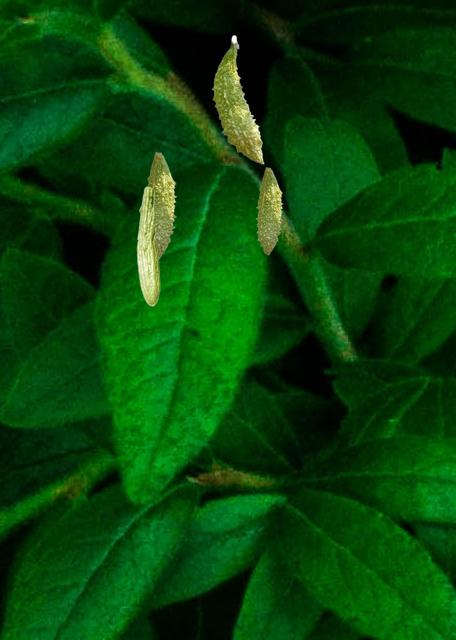ampalaya: (211, 34, 264, 164), (146, 151, 177, 258), (136, 186, 160, 306), (255, 166, 283, 255)
